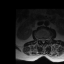CCS_normal: (42, 36, 44, 45)
LFS_stenosis: (46, 36, 48, 41)
LLS_normal: (44, 37, 46, 42)
RFS_stenosis: (38, 37, 40, 41)
RLS_normal: (40, 37, 42, 42)
